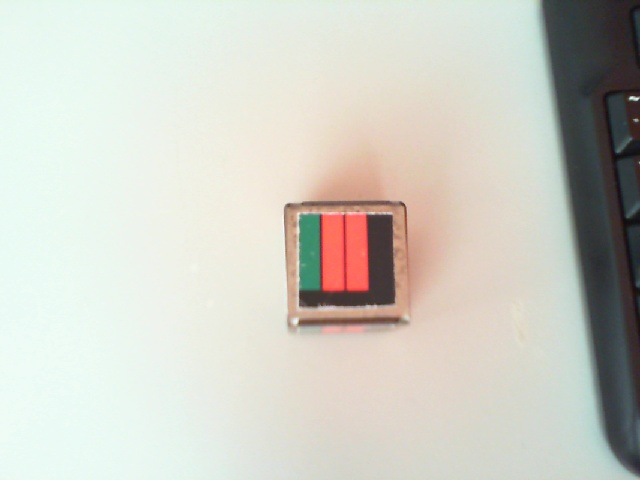square: (300, 213, 395, 307)
